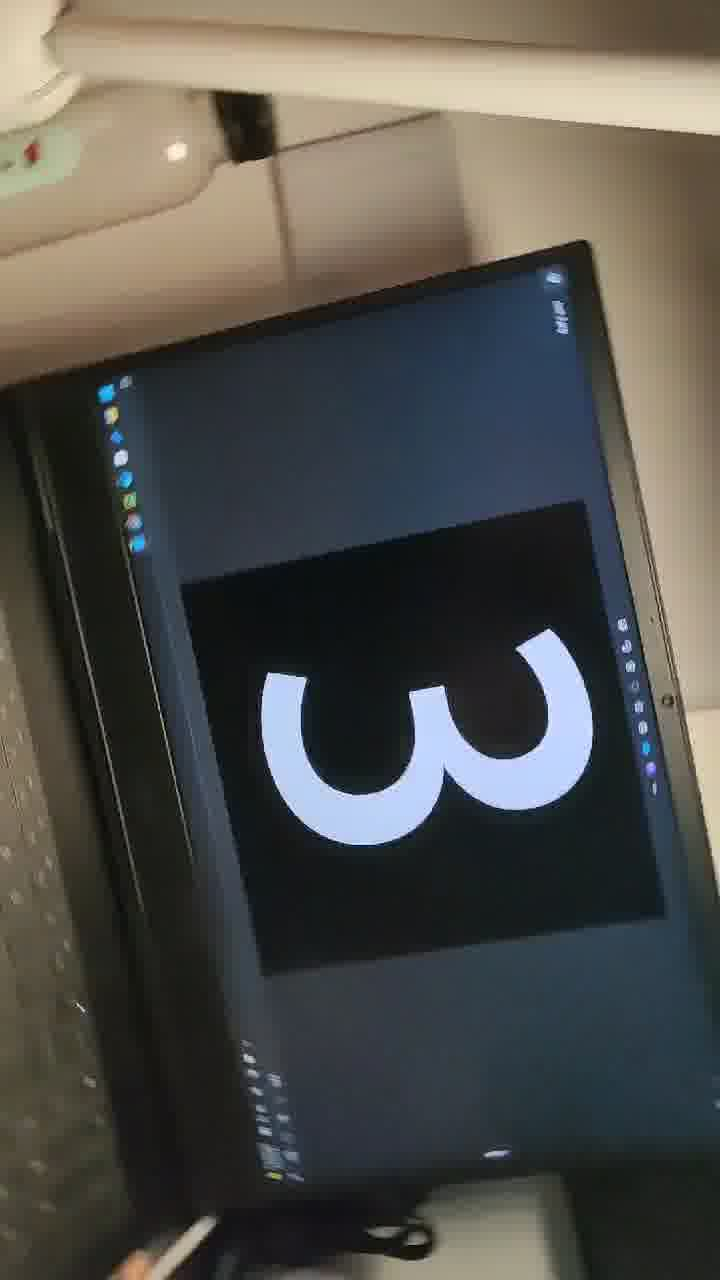three: (236, 549, 613, 931)
